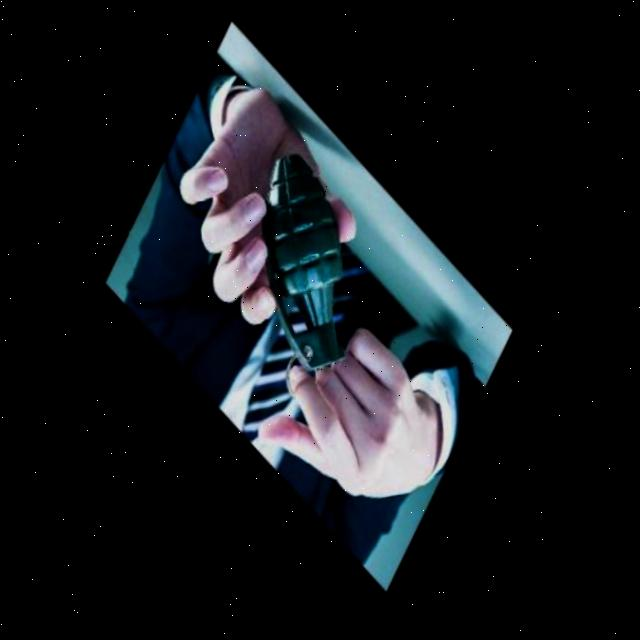grenade: (247, 143, 367, 385)
